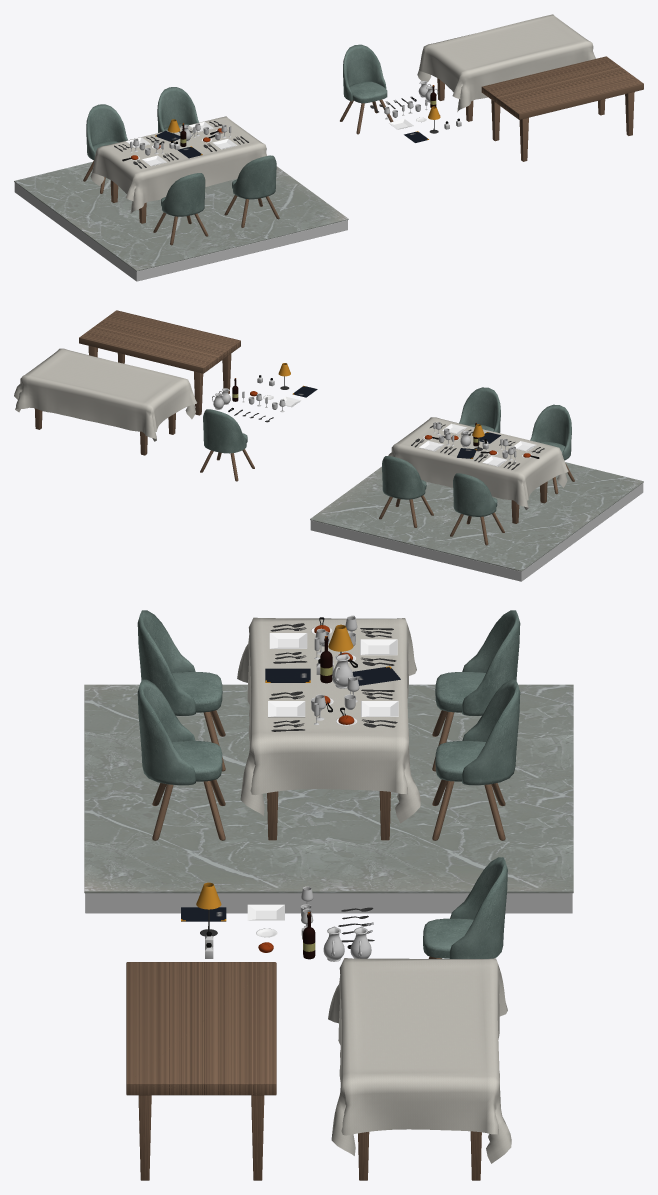
The model's file is table.obj.
3 views of the same model, one above another, from view 1: azimuth 30°, elevation 25°; view 2: azimuth 150°, elevation 25°; view 3: azimuth 270°, elevation 25° (orthographic). The views are drawn at different scales.
Parts seen in each view (by area): view 1: Plane.002_Plane.046, Towel.001_Plane.053, Towel_Plane.005, Chair_Circle, Table.002_Plane.054, Plane_Plane.045, Chair.002_Circle.011, Plane.007_Plane.055; view 2: Plane.002_Plane.046, Towel.001_Plane.053, Towel_Plane.005, Chair_Circle, Table.002_Plane.054, Plane_Plane.045, Chair.002_Circle.011, Plane.007_Plane.055, Plane.006_Plane.037; view 3: Plane.002_Plane.046, Towel.001_Plane.053, Chair_Circle, Towel_Plane.005, Table.002_Plane.054, Plane_Plane.045, Chair.002_Circle.011, Plane.007_Plane.055, Plane.001, Plane.006_Plane.037.
Part boxes in pixels (box(x1,y1,x2,y2)): Plane.002_Plane.046: box(14, 162, 348, 271); Towel.001_Plane.053: box(417, 14, 595, 111); Towel_Plane.005: box(90, 116, 267, 213); Chair_Circle: box(83, 87, 279, 245); Table.002_Plane.054: box(481, 56, 643, 119); Plane_Plane.045: box(14, 183, 347, 281); Chair.002_Circle.011: box(340, 44, 393, 134); Plane.007_Plane.055: box(491, 92, 634, 161); Plane.002_Plane.046: box(310, 462, 643, 571); Towel.001_Plane.053: box(14, 348, 197, 441); Towel_Plane.005: box(388, 417, 568, 509); Chair_Circle: box(379, 387, 574, 545); Table.002_Plane.054: box(79, 310, 240, 373); Plane_Plane.045: box(310, 483, 643, 581); Chair.002_Circle.011: box(200, 409, 254, 481); Plane.007_Plane.055: box(88, 346, 231, 415); Plane.006_Plane.037: box(34, 408, 175, 455); Plane.002_Plane.046: box(84, 684, 573, 893); Towel.001_Plane.053: box(328, 958, 511, 1163); Chair_Circle: box(137, 610, 520, 840); Towel_Plane.005: box(237, 617, 420, 823); Table.002_Plane.054: box(126, 962, 276, 1095); Plane_Plane.045: box(85, 893, 572, 913); Chair.002_Circle.011: box(423, 857, 507, 958); Plane.007_Plane.055: box(138, 1095, 264, 1180); Plane.001: box(267, 791, 390, 840); Plane.006_Plane.037: box(358, 1131, 481, 1180).
Size of the model in its own units: 13.62 by 2.21 by 5.47.
